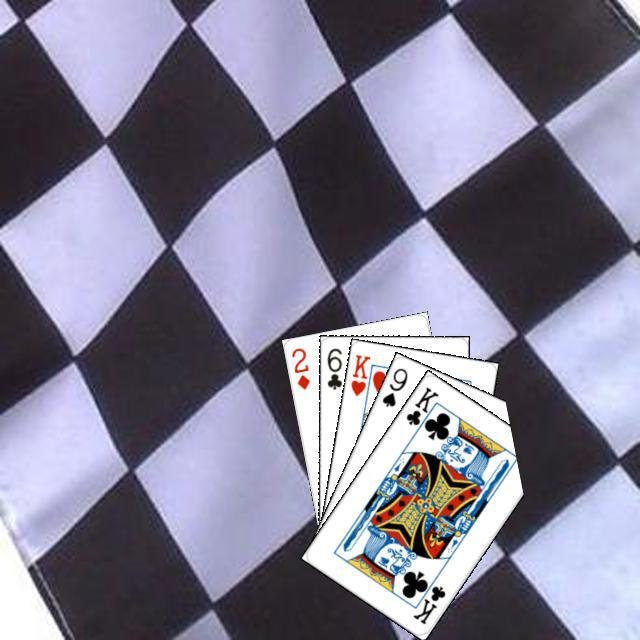2d: (286, 343, 312, 391)
6c: (322, 343, 343, 391)
9s: (377, 363, 409, 409)
Kc: (401, 382, 440, 436), (408, 572, 447, 626)
Kh: (346, 349, 377, 403)
